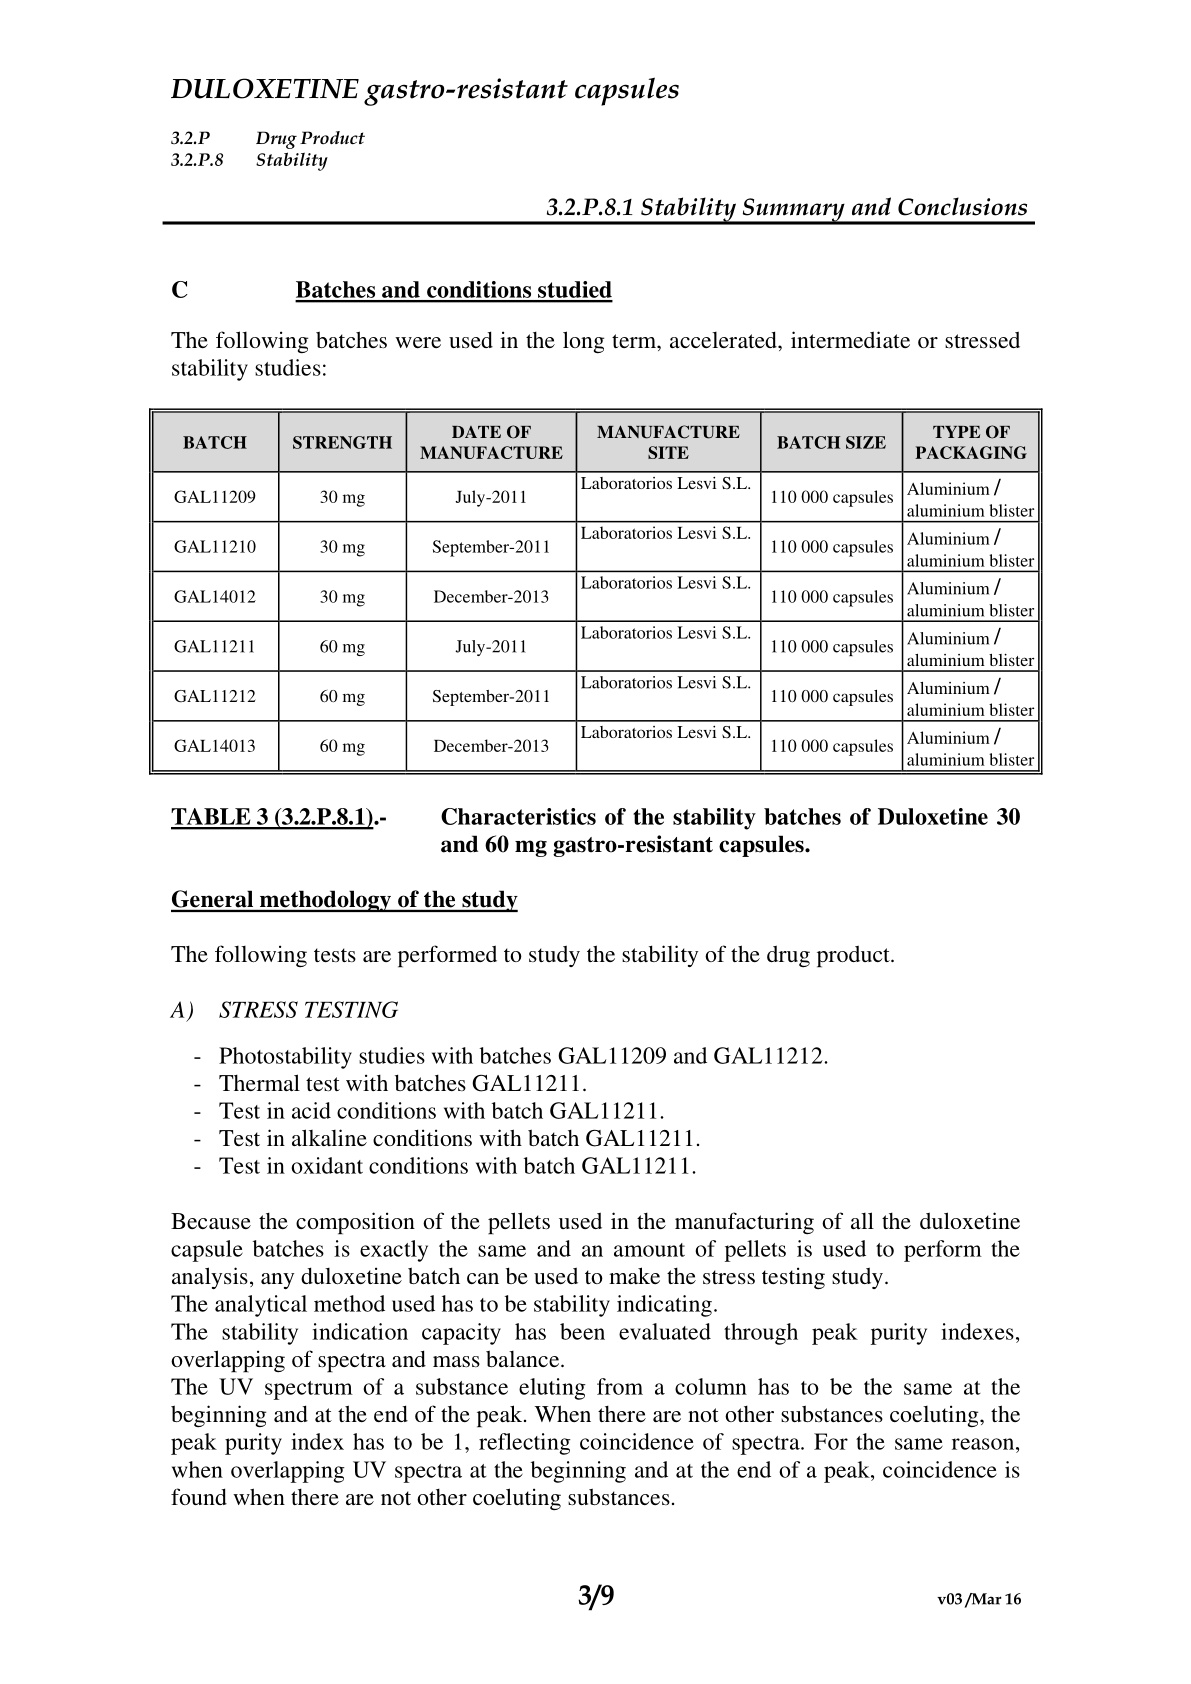full_lined: (147, 407, 1043, 776)
